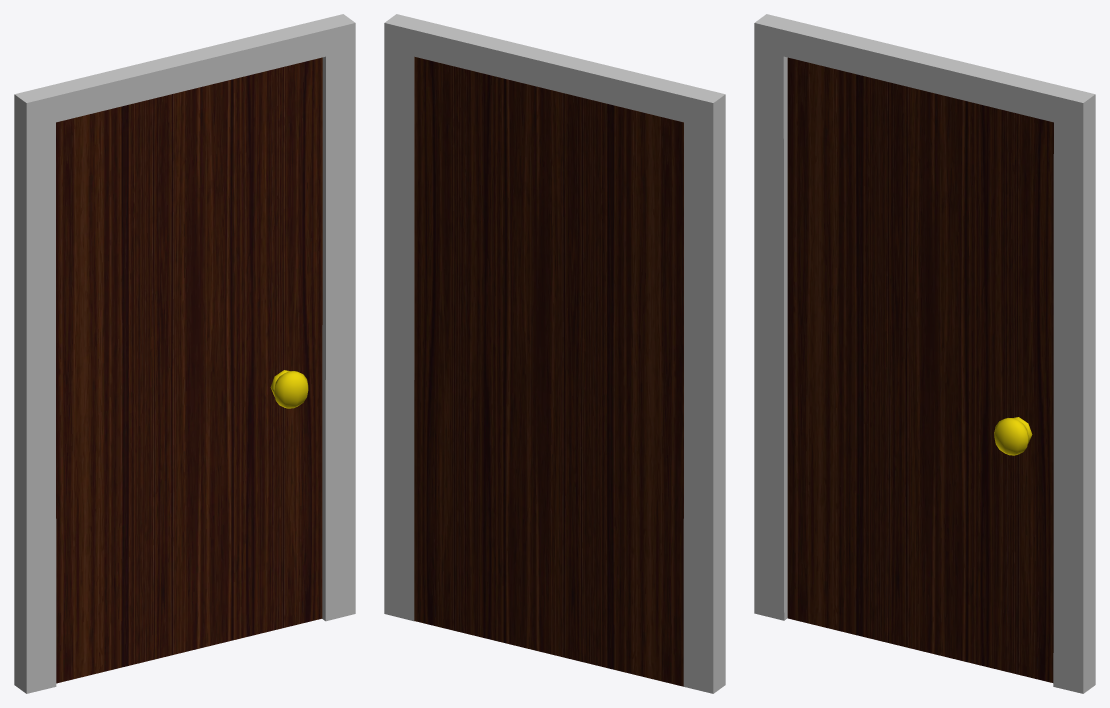
File: door_frame_model.fbx
3 renders of one model, left to right at view 1: azimuth 30°, elevation 25°; view 2: azimuth 150°, elevation 25°; view 3: azimuth 330°, elevation 25°, orthographic.
Parts seen in each view (by area): view 1: Cube, Cube.001; view 2: Cube, Cube.001; view 3: Cube, Cube.001.
Boxes of the visible parts, x1,y1,x2,y2 form: Cube: (56, 57, 322, 683); Cube.001: (14, 14, 355, 693); Cube: (414, 56, 683, 686); Cube.001: (384, 14, 725, 693); Cube: (787, 57, 1053, 682); Cube.001: (754, 14, 1095, 693).
Bounding box in the file's own units: 122 × 210 × 14.81.
